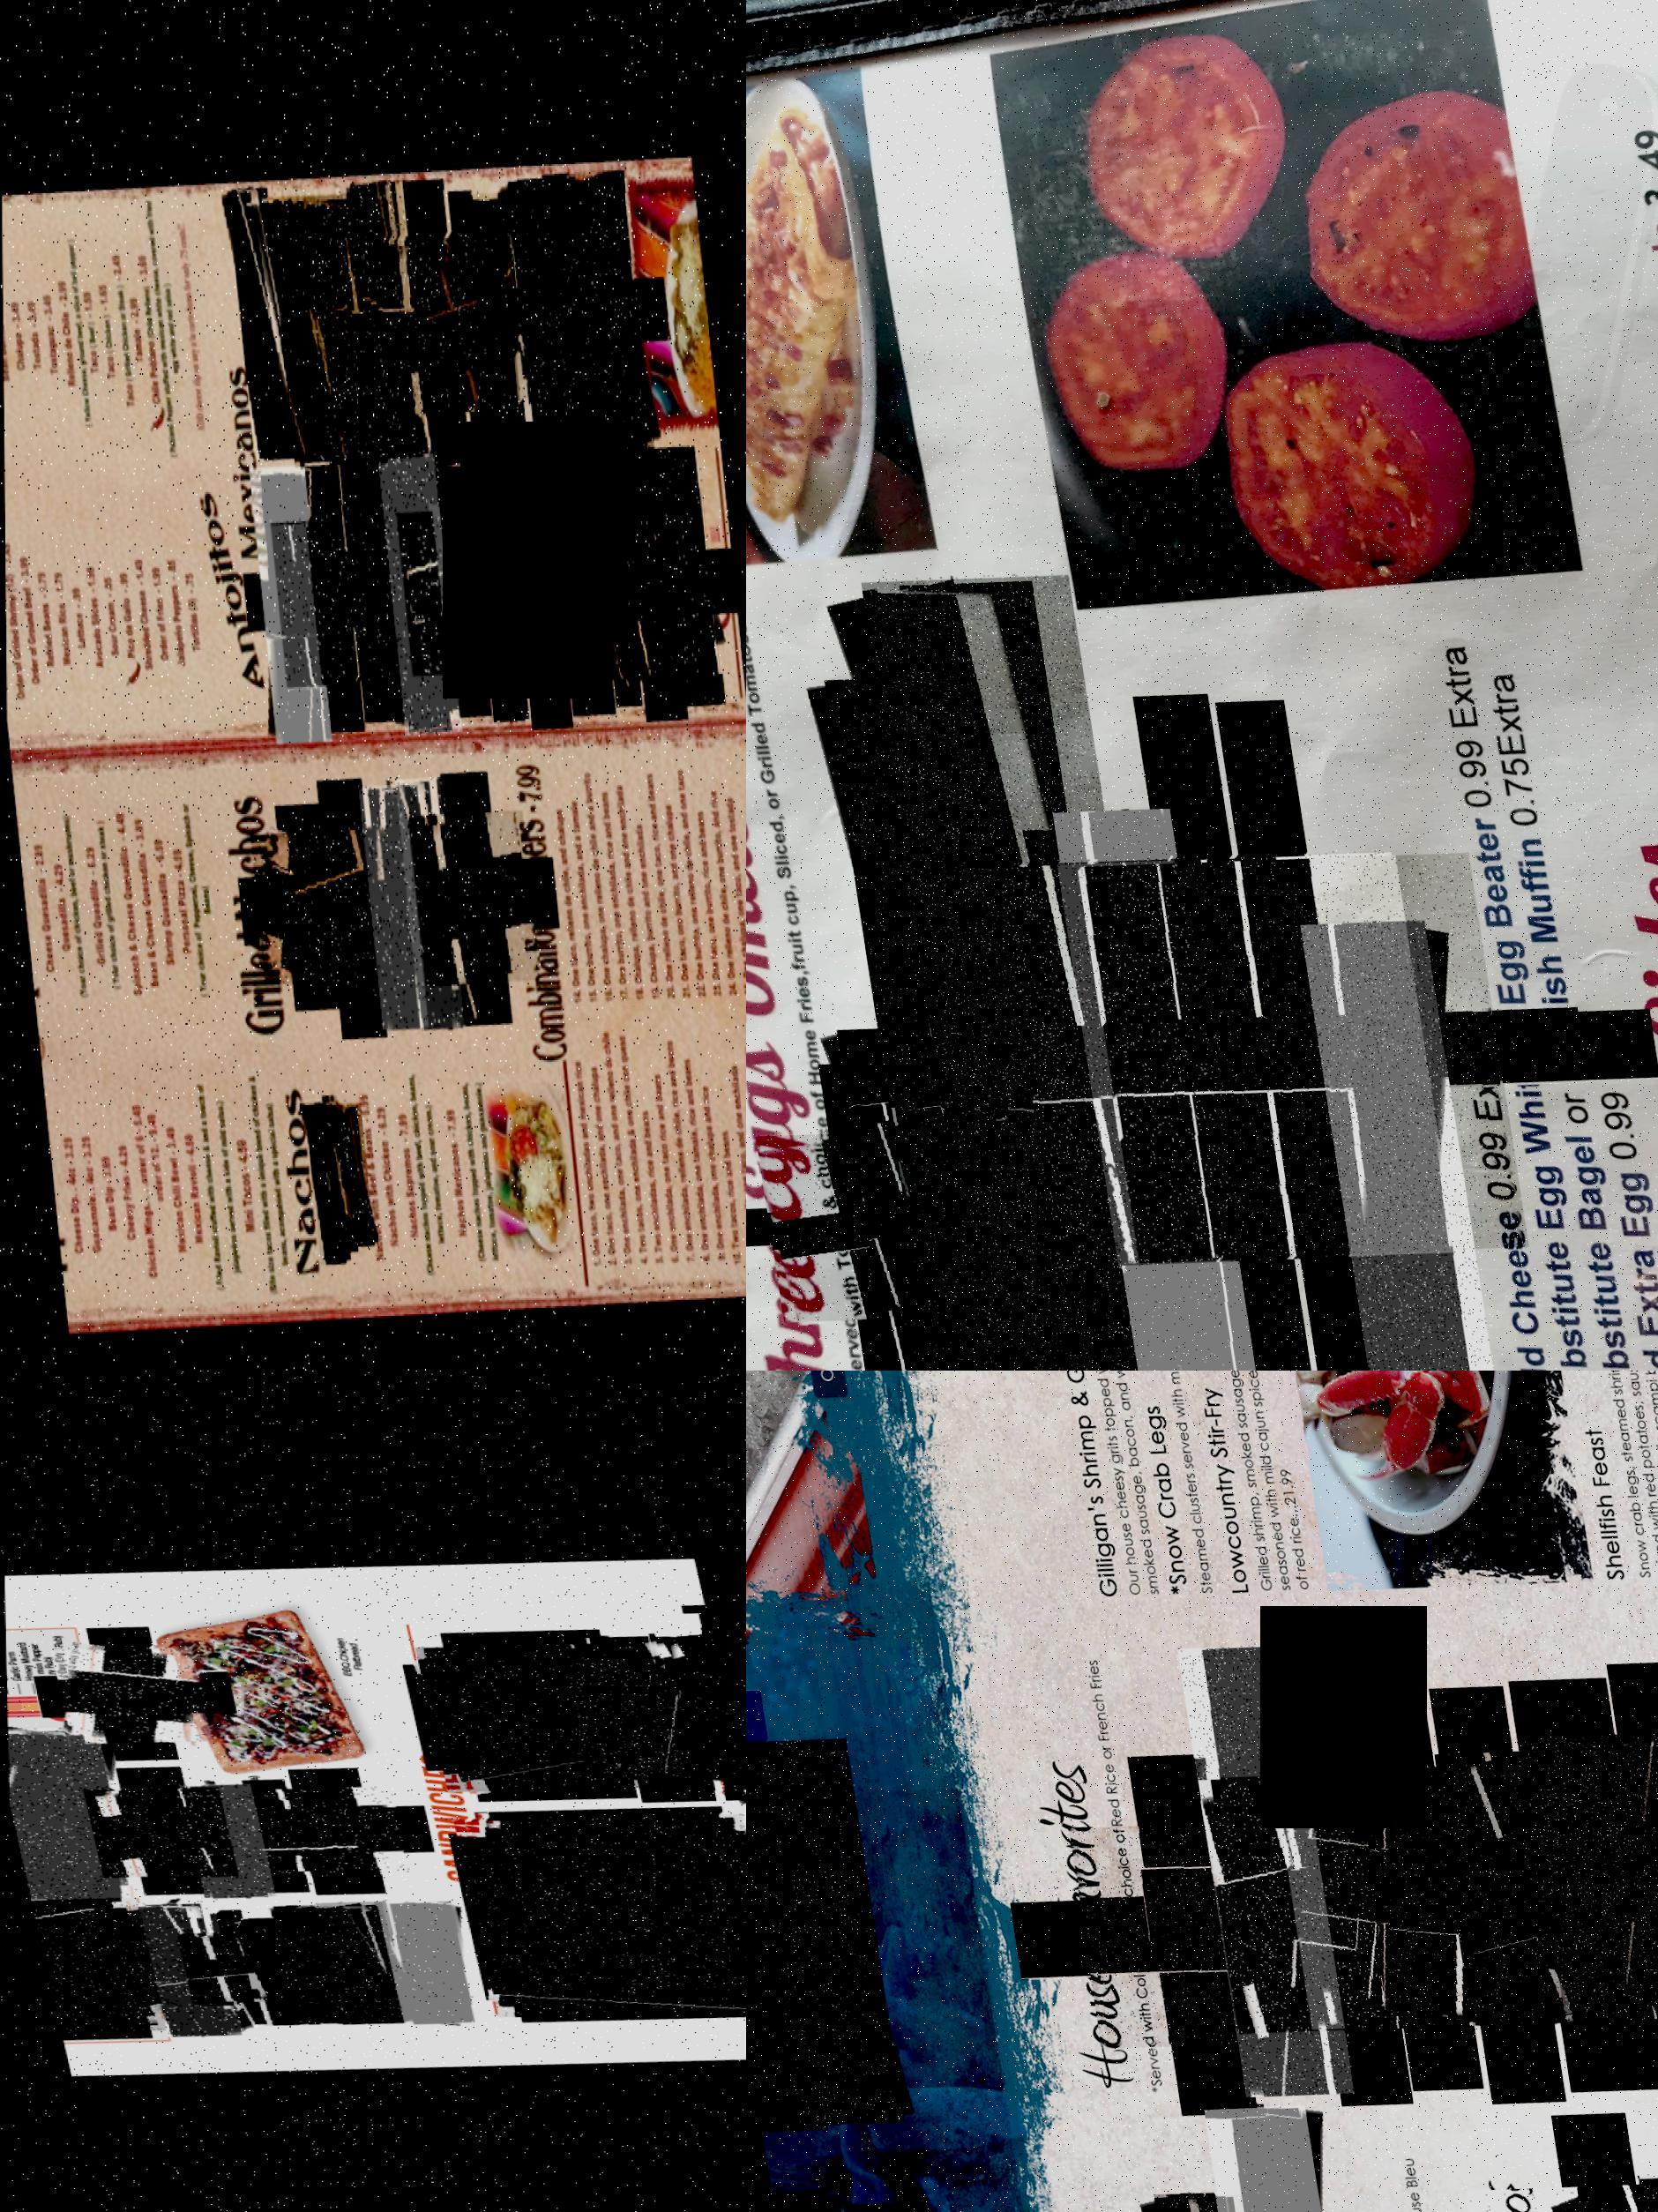Menu-Items: (857, 533, 1190, 1371), (993, 787, 1451, 1280), (1076, 791, 1526, 1271), (820, 650, 1035, 1371), (1048, 775, 1256, 1371), (1296, 881, 1494, 1371), (1348, 1719, 1641, 2033), (1198, 1728, 1489, 2038), (1271, 1724, 1560, 2033), (1174, 1618, 1353, 2094), (1430, 1698, 1658, 2029), (451, 1784, 745, 2022), (1064, 1789, 1315, 2057), (745, 1721, 902, 2130), (751, 1094, 965, 1324), (832, 1003, 960, 1371), (1520, 1681, 1658, 2017), (413, 1618, 664, 1796), (745, 1681, 822, 2134), (582, 446, 721, 672), (430, 456, 564, 674), (470, 460, 604, 678), (369, 195, 503, 413), (514, 455, 646, 667), (512, 185, 643, 397), (286, 789, 416, 1000), (312, 470, 441, 679), (409, 775, 538, 982), (376, 428, 463, 726), (559, 1639, 742, 1778), (301, 165, 387, 458), (247, 441, 331, 738), (270, 486, 394, 685), (409, 202, 533, 401), (397, 475, 519, 674), (573, 132, 653, 434), (7, 1719, 136, 1905), (350, 158, 428, 449), (1198, 2080, 1365, 2212), (500, 152, 576, 439), (559, 467, 676, 653), (226, 167, 301, 456), (266, 171, 341, 456), (247, 803, 362, 988), (30, 1895, 169, 2038), (355, 758, 430, 1021), (49, 1632, 214, 1750), (394, 752, 467, 1019), (648, 1595, 745, 1787), (657, 415, 725, 686), (84, 1773, 235, 1883), (134, 1890, 246, 2038), (259, 1773, 408, 1879), (312, 1888, 418, 2022), (374, 1888, 479, 2024), (472, 164, 526, 409), (176, 1771, 273, 1898), (214, 1789, 336, 1874), (272, 1897, 350, 2024), (179, 1921, 296, 2005), (237, 1911, 307, 2024), (301, 1078, 343, 1254), (336, 1080, 371, 1235), (319, 1080, 352, 1242)
